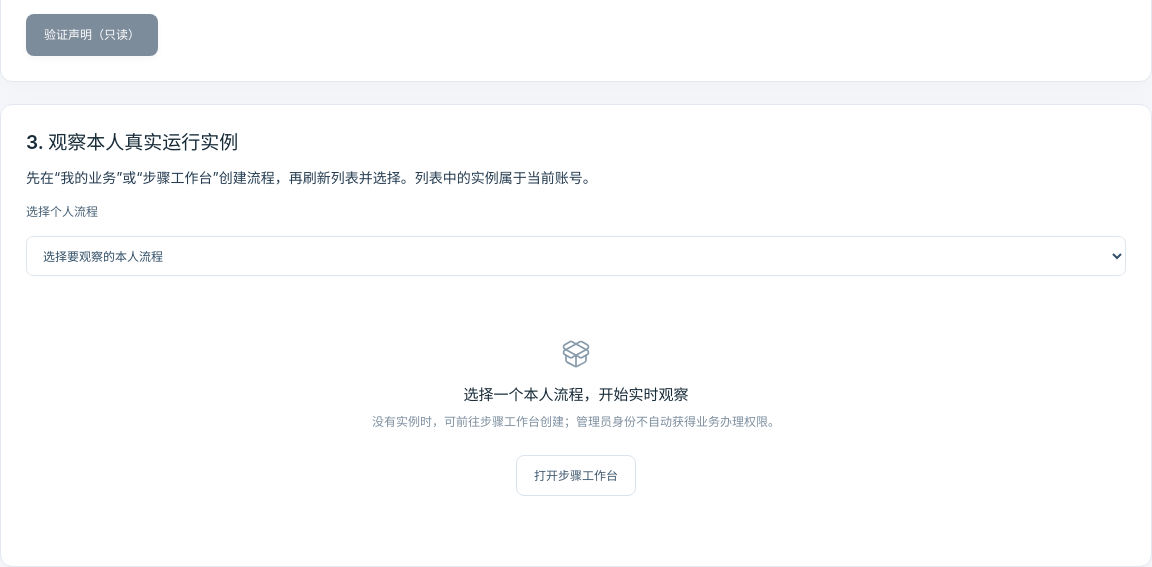
Test: 个人实例实时观察与请求隔离 › 分别呈现业务state、个人cursor和执行status；轮询更新正式状态
(page scrolled)
Select "本人记录甲 · instance · neutral.flow" in the dropdown named "观察个人流程": x=576, y=256 [26, 236, 1126, 276]
(page scrolled)
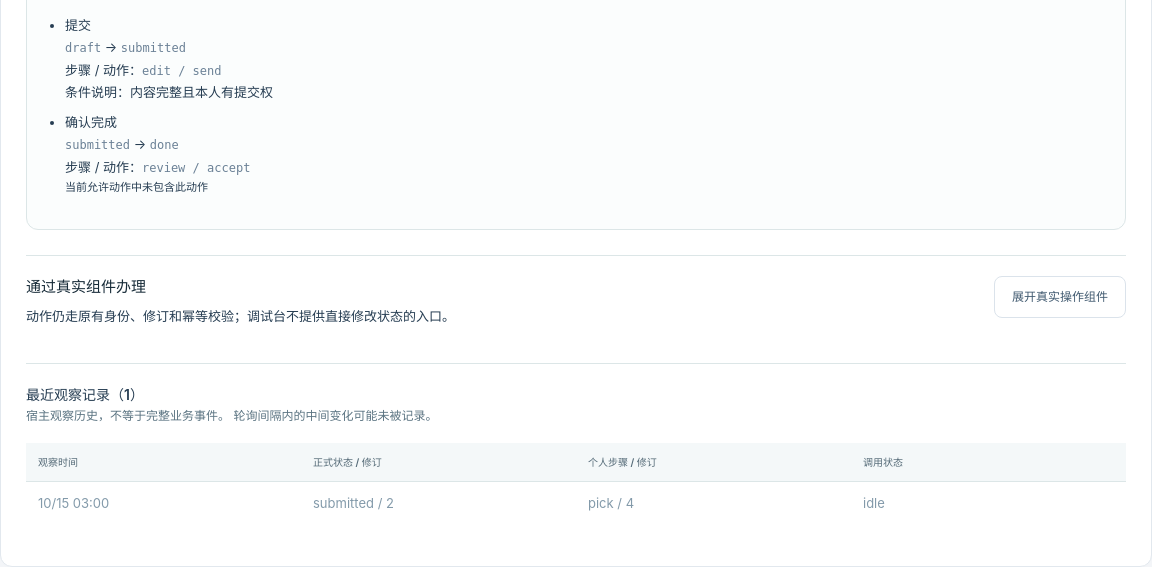
Now the text "宿主观察历史，不等于完整业务事件。 轮询间隔内的中间变化可能未被记录。" is shown, box [26, 408, 437, 423]
